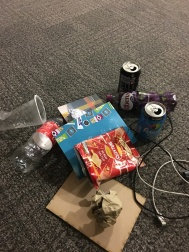bottle_purple: (105, 91, 184, 111)
bottle_red: (12, 110, 66, 177)
can_black: (114, 59, 145, 94)
can_blue: (138, 104, 168, 144)
paper_brown: (79, 185, 131, 232)
